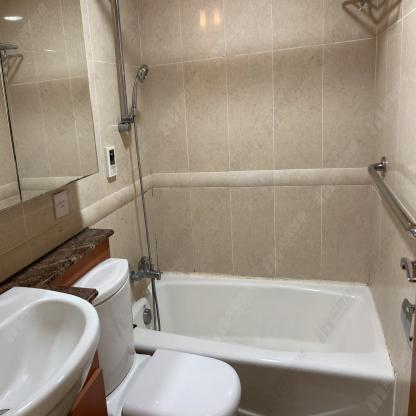Bathtub: (133, 273, 397, 416)
Toilet: (70, 255, 241, 416)
Toilet Sink: (0, 281, 102, 416)
